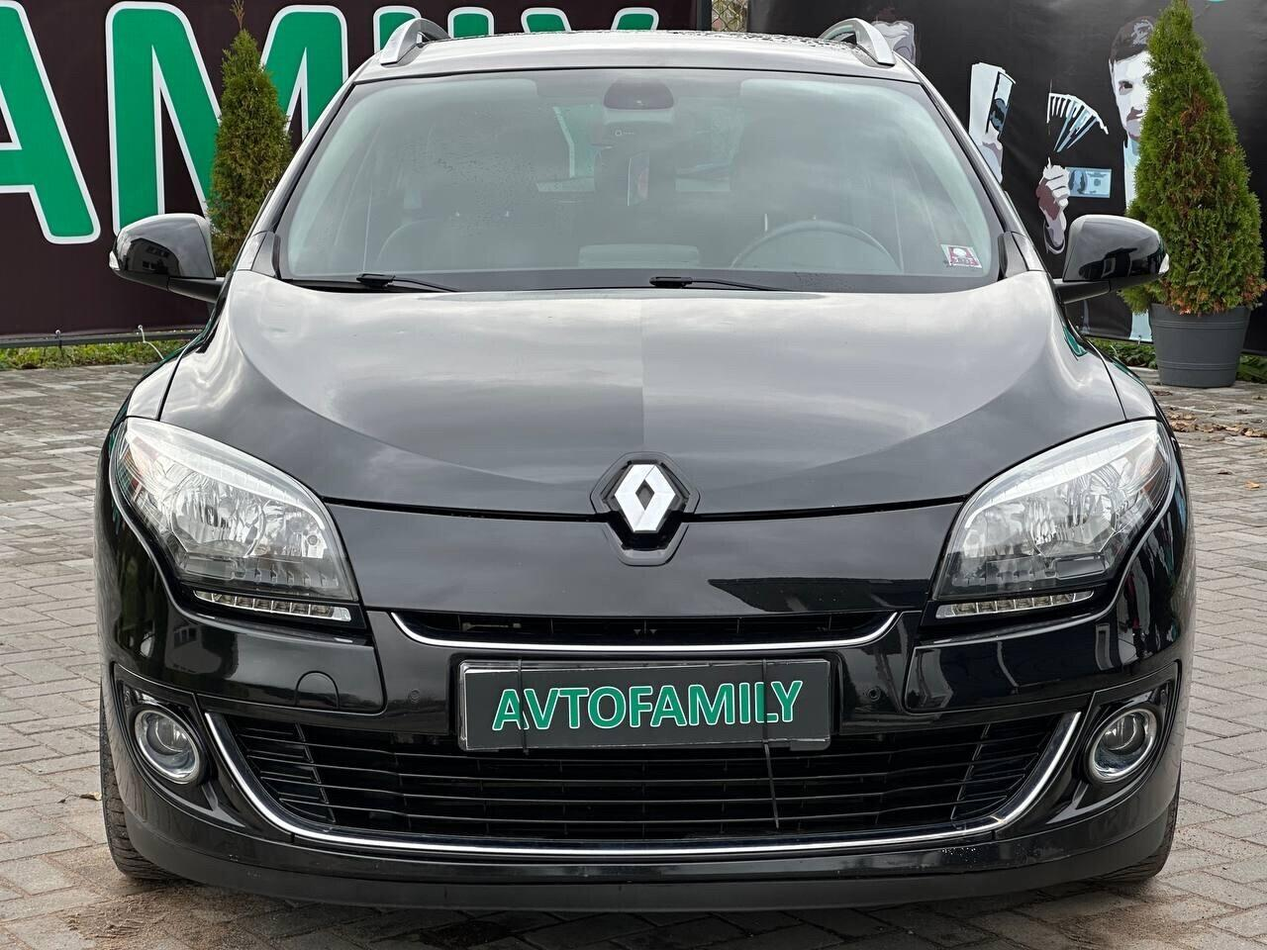Megane_2012-2014: (97, 32, 1203, 910)
